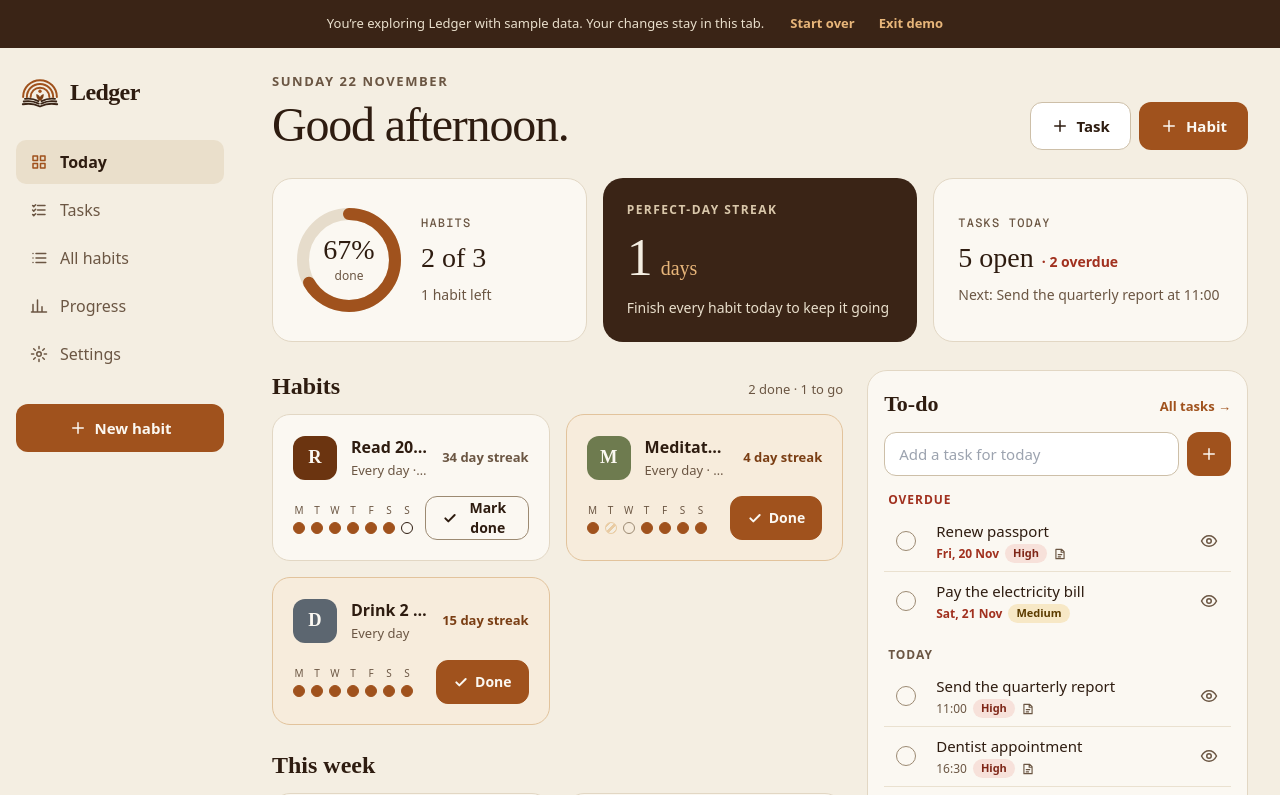
Test: demo › keeps changes in the tab and starts over from the sample data
Click the button with aria-label "Check off Read 20 pages".
click(477, 518)  # box [425,496,529,540]
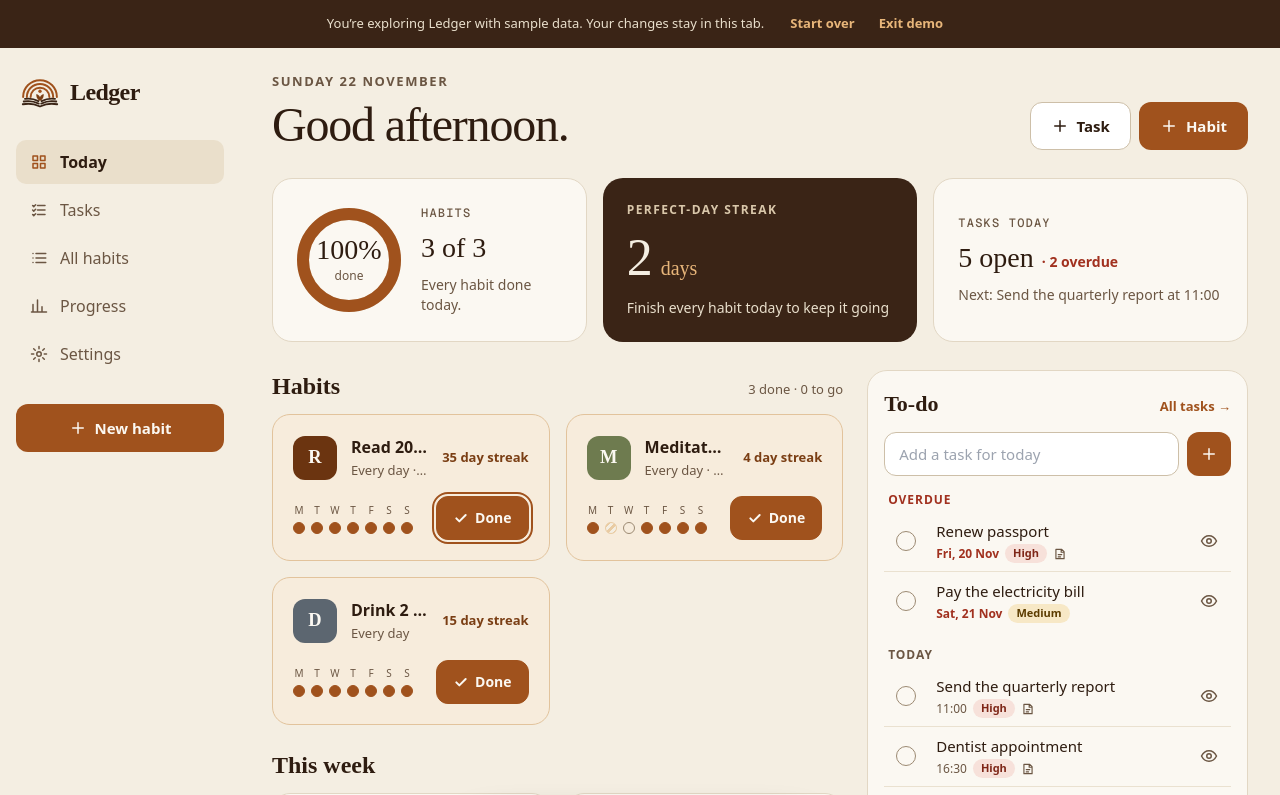
Result: the button with aria-label "Uncheck Read 20 pages" is shown at [436,496,529,540]
